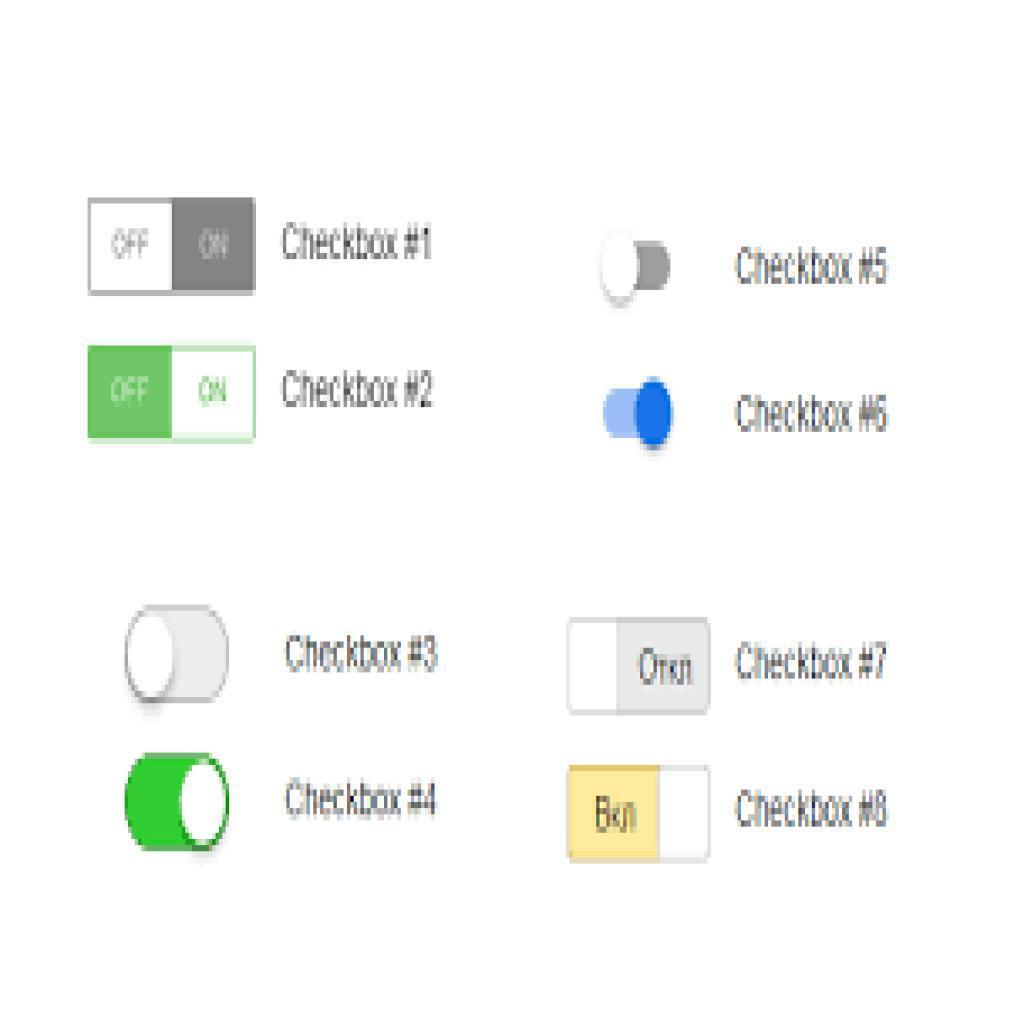switch: (119, 593, 241, 728), (89, 349, 255, 443), (87, 202, 256, 293), (119, 742, 235, 871), (567, 766, 715, 861), (567, 621, 713, 716), (592, 220, 675, 316), (599, 369, 677, 464)
